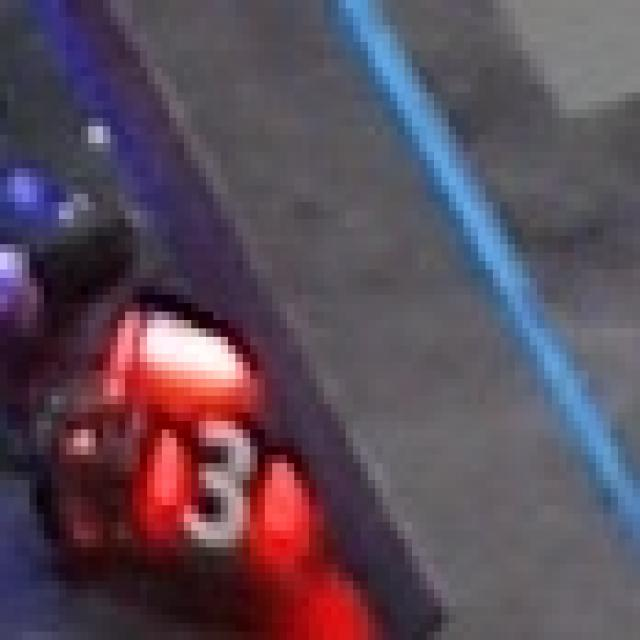R3: (147, 413, 302, 539)
